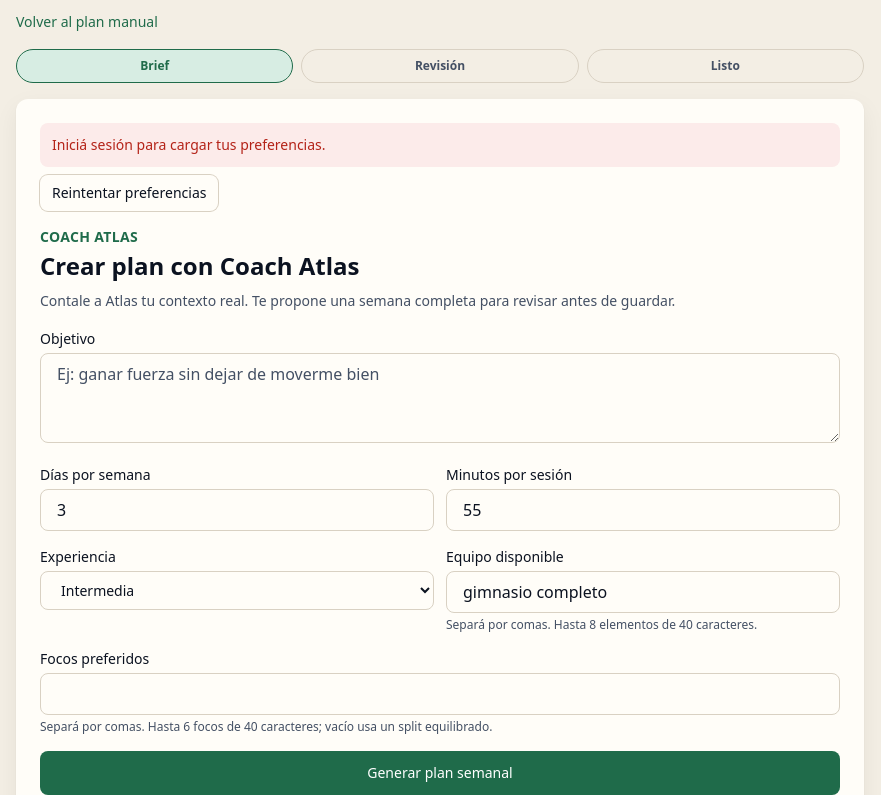
Test: GuidedPlanPage › shows a preference GET error and retries without generating or saving
Expected: the message reads "Iniciá sesión para cargar tus preferencias.", [52,135,326,154]
Click the button "Reintentar preferencias". click: [129, 193]
box: [40,175,218,211]
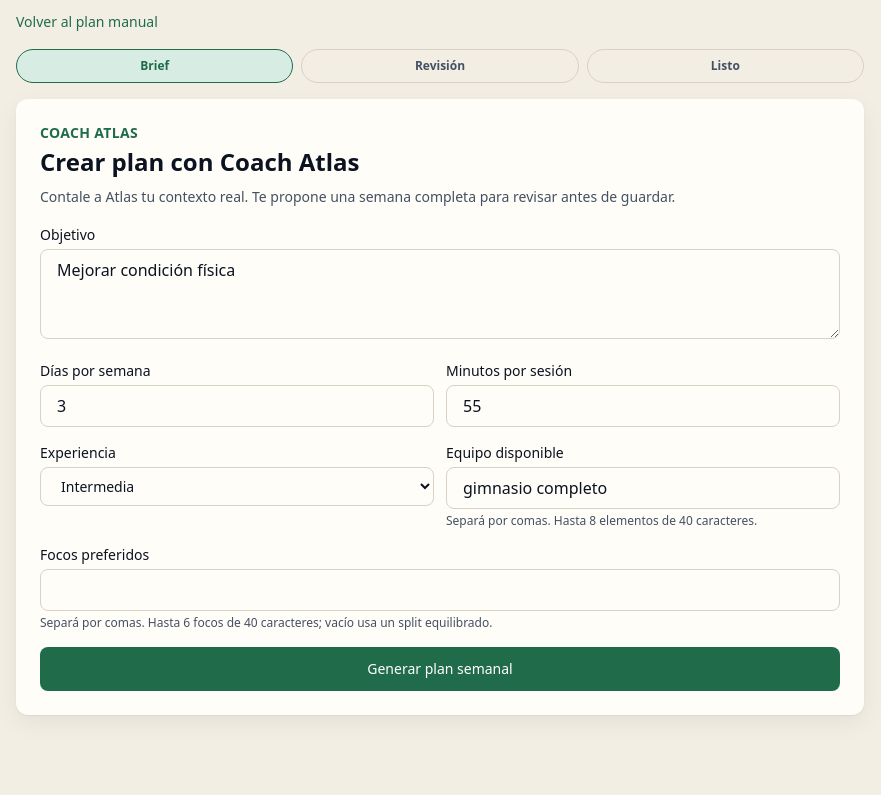
Expected: the text box labelled "Objetivo" holds "Mejorar condición física", [40,249,840,339]
